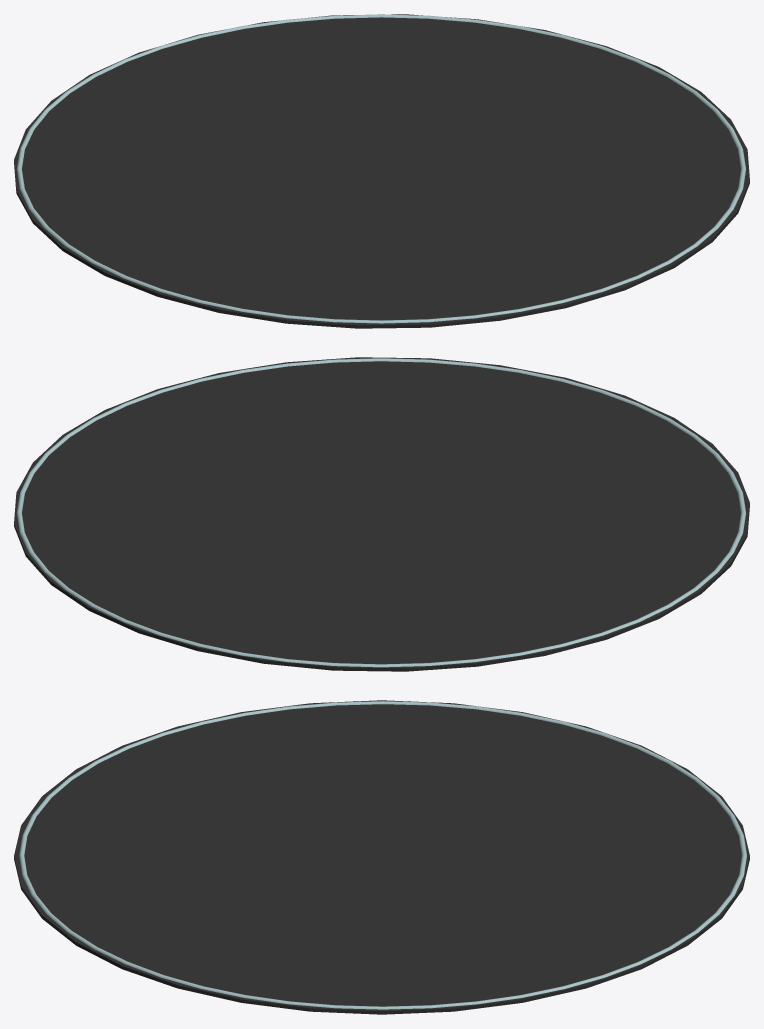
File: Stage.fbx
3 renders of one model, top to bottom at view 1: azimuth 30°, elevation 25°; view 2: azimuth 150°, elevation 25°; view 3: azimuth 270°, elevation 25°, orthographic.
Parts seen in each view (by area): view 1: Cylinder, Torus; view 2: Cylinder, Torus; view 3: Cylinder, Torus.
Boxes of the visible parts, bbox=[...] form: Cylinder: bbox=[14, 14, 749, 328]; Torus: bbox=[16, 14, 746, 323]; Cylinder: bbox=[14, 357, 749, 671]; Torus: bbox=[16, 358, 745, 667]; Cylinder: bbox=[14, 700, 749, 1014]; Torus: bbox=[19, 701, 746, 1009].
Bounding box in the file's own units: 2467 × 19.38 × 2467.
